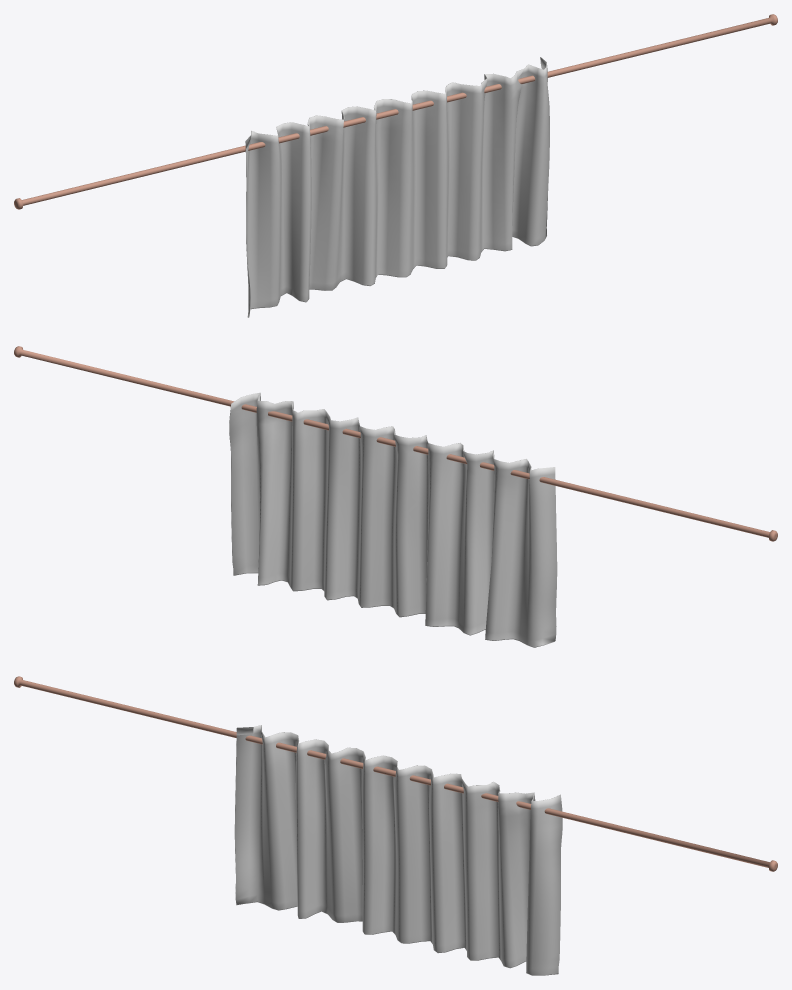
Rendered from curtain.fbx.
3 renders of one model, top to bottom at view 1: azimuth 30°, elevation 25°; view 2: azimuth 150°, elevation 25°; view 3: azimuth 330°, elevation 25°, orthographic.
Visible parts, largest first — view 1: CurtainCloth, CurtainPole; view 2: CurtainCloth, CurtainPole; view 3: CurtainCloth, CurtainPole.
Boxes of the visible parts, x1=… form: CurtainCloth: x1=245, y1=57, x2=549, y2=317; CurtainPole: x1=14, y1=14, x2=777, y2=209; CurtainCloth: x1=229, y1=392, x2=557, y2=647; CurtainPole: x1=14, y1=346, x2=777, y2=541; CurtainCloth: x1=234, y1=725, x2=562, y2=975; CurtainPole: x1=14, y1=676, x2=777, y2=871.
Bounding box in the file's own units: 1070 × 240 × 47.13.
